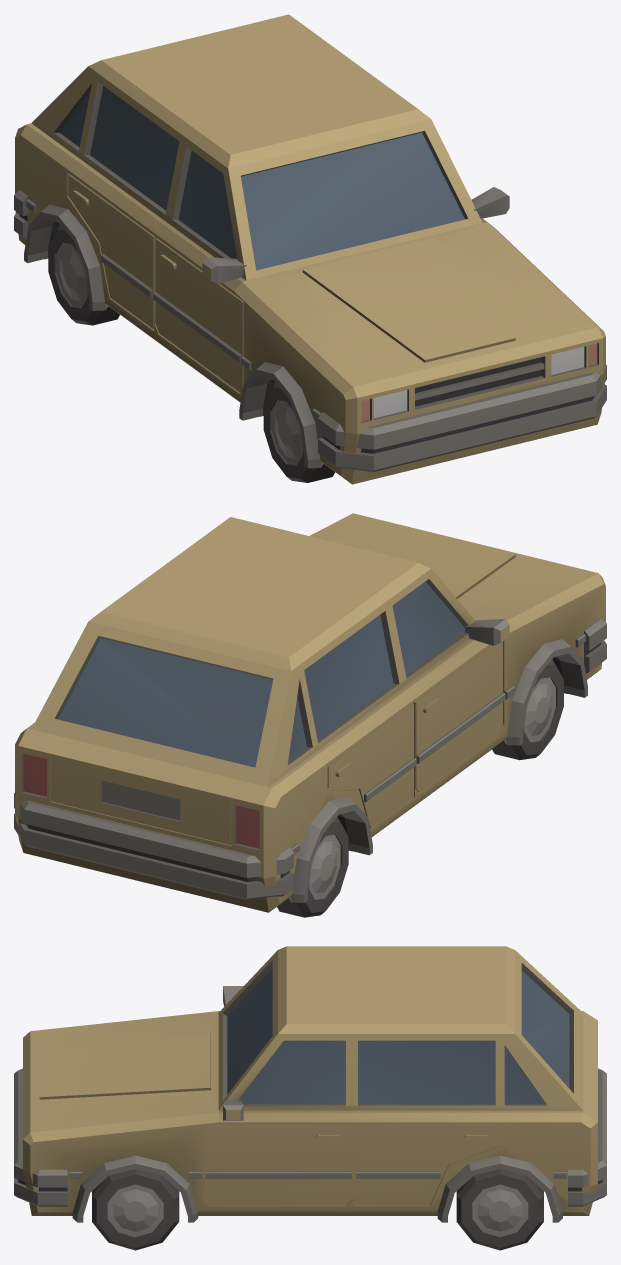
Rendered from hatch.glb.
The picture shows the model from 3 angles, top to bottom: view 1: azimuth 30°, elevation 25°; view 2: azimuth 150°, elevation 25°; view 3: azimuth 270°, elevation 25°; orthographic projection. The views are drawn at different scales.
Parts seen in each view (by area): view 1: hatch; view 2: hatch; view 3: hatch.
Part boxes in pixels (box(x1,y1,x2,y2)): hatch: box(14, 14, 606, 484); hatch: box(14, 513, 606, 917); hatch: box(14, 946, 606, 1250).
Bounding box in the file's own units: 1.97 × 1.6 × 4.
